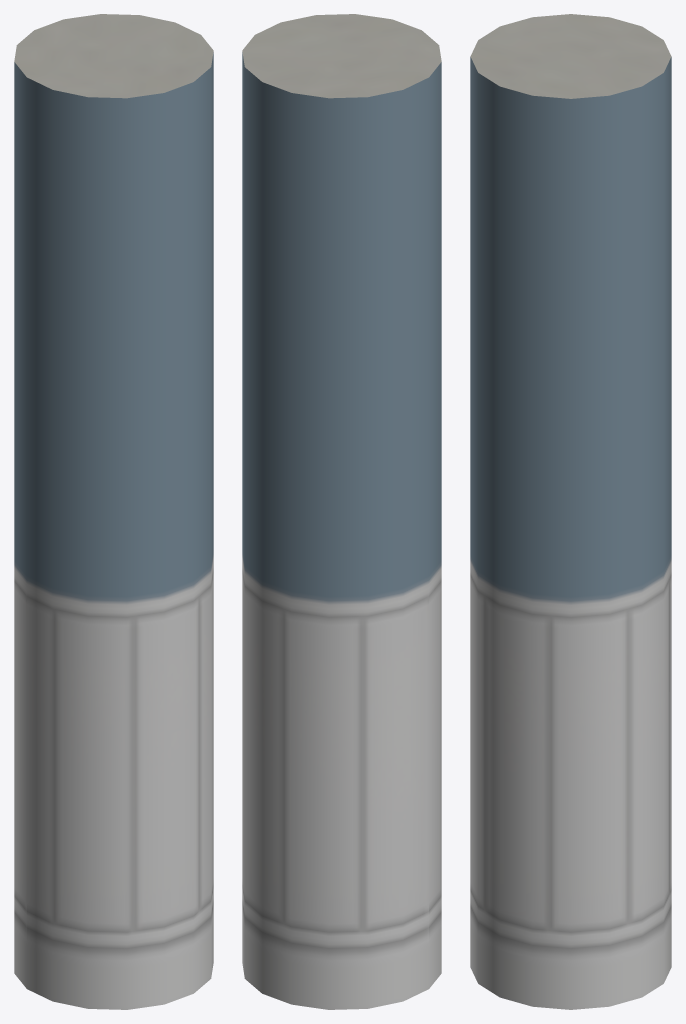
Rendered from column7.fbx.
The picture shows the model from 3 angles, left to right: view 1: azimuth 30°, elevation 25°; view 2: azimuth 150°, elevation 25°; view 3: azimuth 270°, elevation 25°; orthographic projection.
Visible parts, largest first — view 1: column7_a; view 2: column7_a; view 3: column7_a.
Boxes of the visible parts, x1,y1,x2,y2 form: column7_a: (14, 14, 213, 1009); column7_a: (242, 14, 441, 1009); column7_a: (470, 14, 671, 1009).
Bounding box in the file's own units: 80 × 400 × 80.
